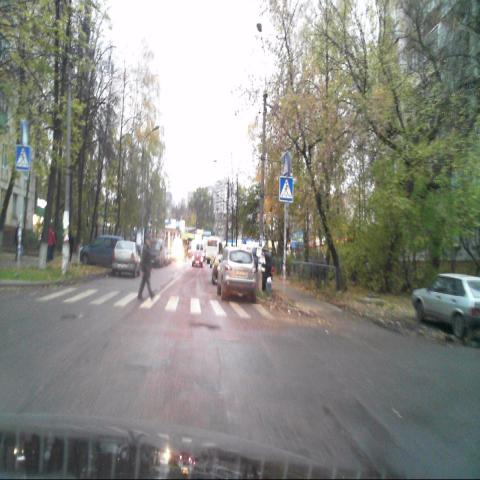5_19_1: (15, 146, 29, 171)
